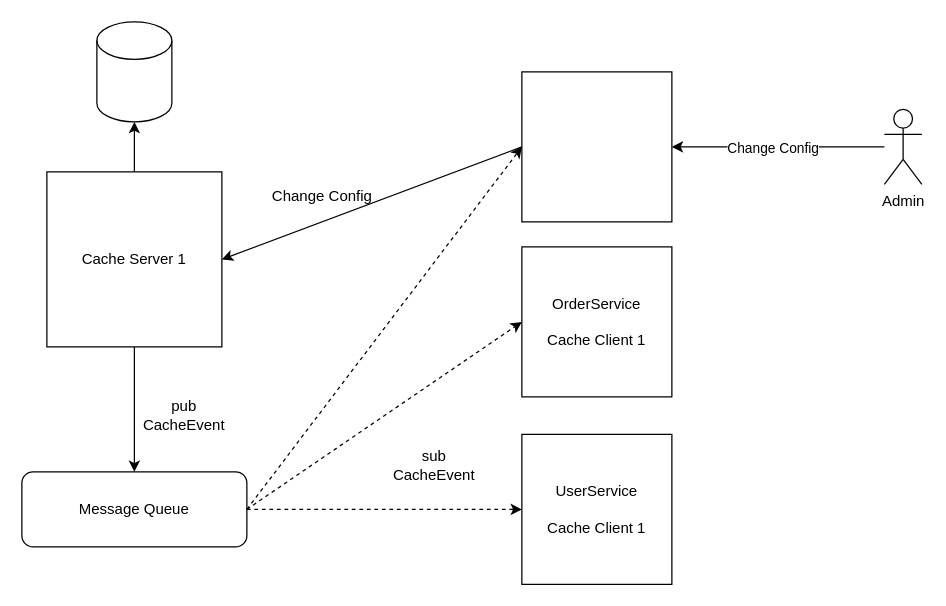
This 946x606 diagram has some shape labels left out. The box of each missing label's shape, as (x1, y1, x2, y2) in pixels:
Database: (96, 21, 172, 122)
Webservice Cache Client 1: (521, 71, 672, 222)
